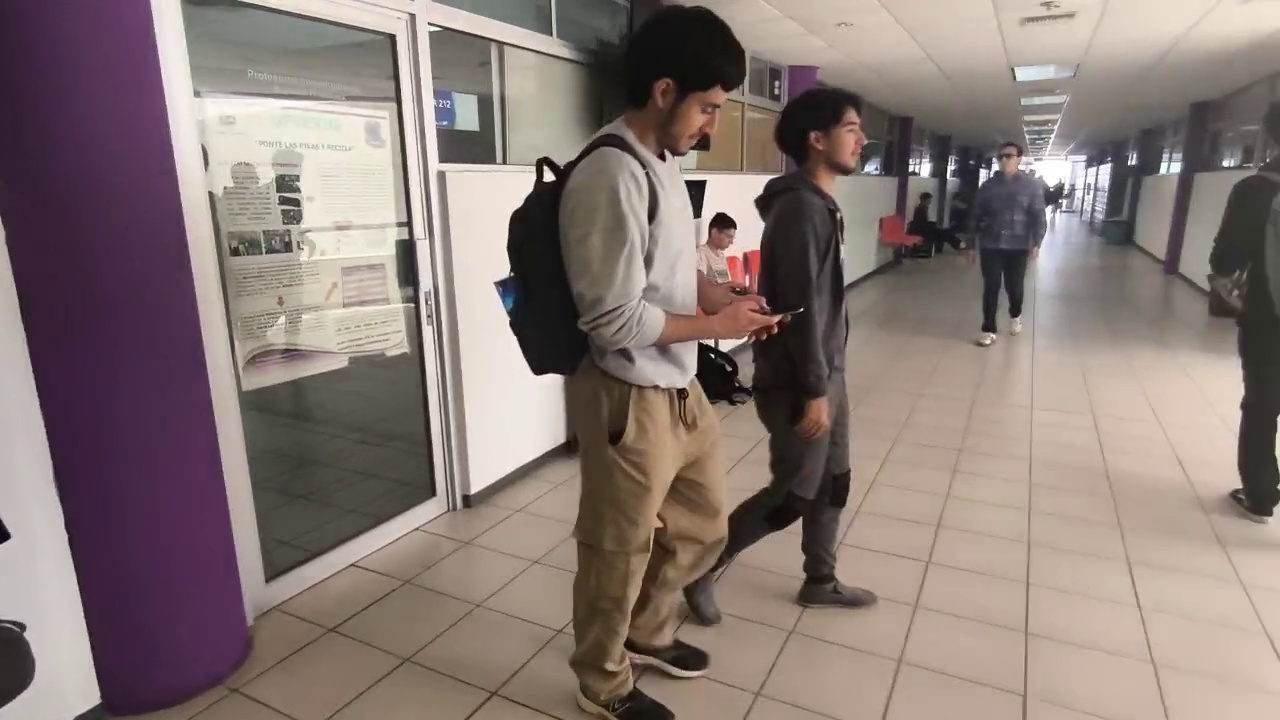mixto2: (763, 303, 810, 318)
